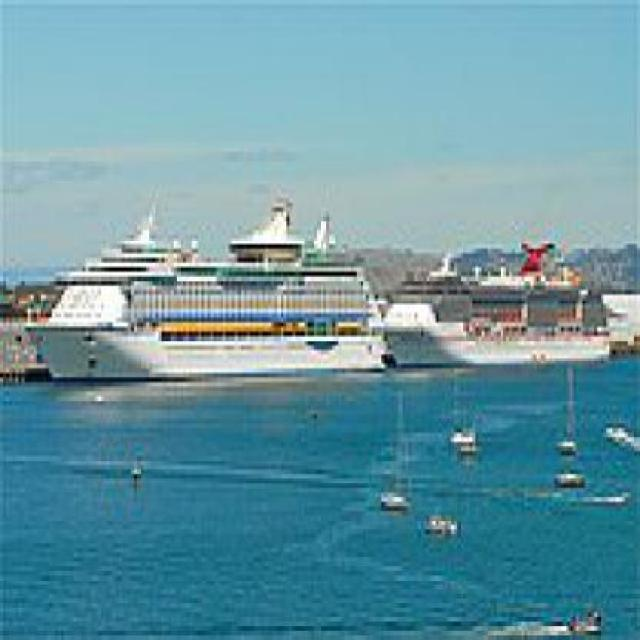cruise: (34, 190, 397, 407)
